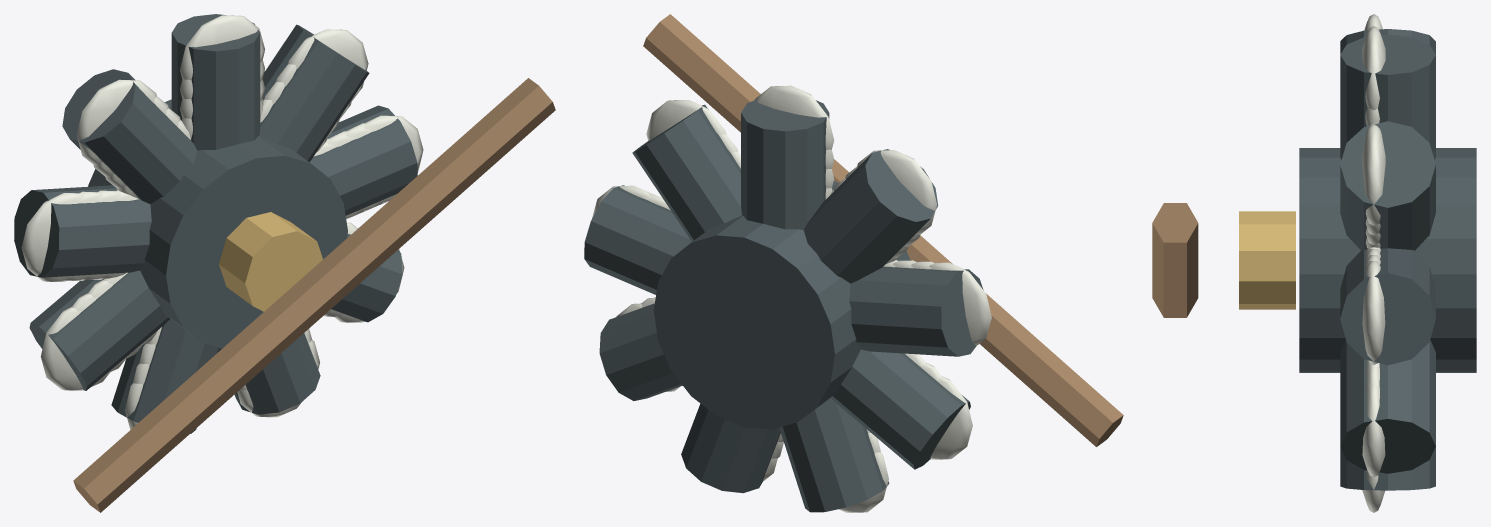
File: castaway-island-escape-exposed-radial-engine-f64b8695__28051.glb
3 renders of one model, left to right at view 1: azimuth 30°, elevation 25°; view 2: azimuth 150°, elevation 25°; view 3: azimuth 270°, elevation 25°, orthographic. The views are drawn at different scales.
Parts seen in each view (by area): view 1: exposed-radial-engine-iron, exposed-radial-engine-wood, exposed-radial-engine-ivory, exposed-radial-engine-brass; view 2: exposed-radial-engine-iron, exposed-radial-engine-wood, exposed-radial-engine-ivory; view 3: exposed-radial-engine-iron, exposed-radial-engine-ivory, exposed-radial-engine-brass, exposed-radial-engine-wood.
Boxes of the visible parts, <box> form: exposed-radial-engine-iron: <box>14,14,417,433</box>; exposed-radial-engine-wood: <box>73,78,555,512</box>; exposed-radial-engine-ivory: <box>21,15,423,429</box>; exposed-radial-engine-brass: <box>219,212,322,311</box>; exposed-radial-engine-iron: <box>584,100,983,512</box>; exposed-radial-engine-wood: <box>643,14,1123,446</box>; exposed-radial-engine-ivory: <box>592,85,991,512</box>; exposed-radial-engine-iron: <box>1299,29,1476,490</box>; exposed-radial-engine-ivory: <box>1362,14,1385,512</box>; exposed-radial-engine-brass: <box>1239,211,1295,309</box>; exposed-radial-engine-wood: <box>1152,203,1198,317</box>.
Bounding box in the file's own units: 1.66 × 1.4 × 0.915.
